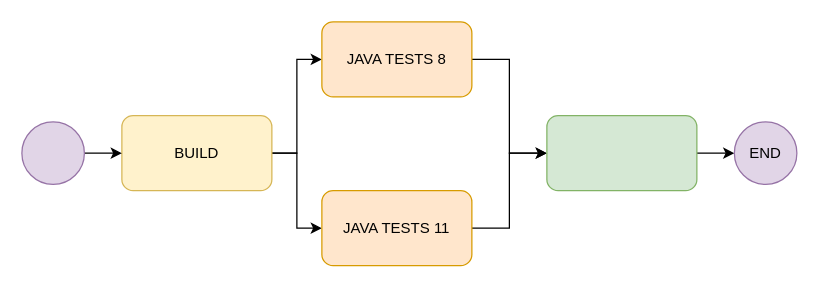
Some shapes in this 819 by 288 pixel diagram are drawn without their labels. The shapes that lost their labels are listed below. From the top down, each one's centre as x and y in pixels, then its label:
[52,152]: START
[621,152]: DEPLOY
